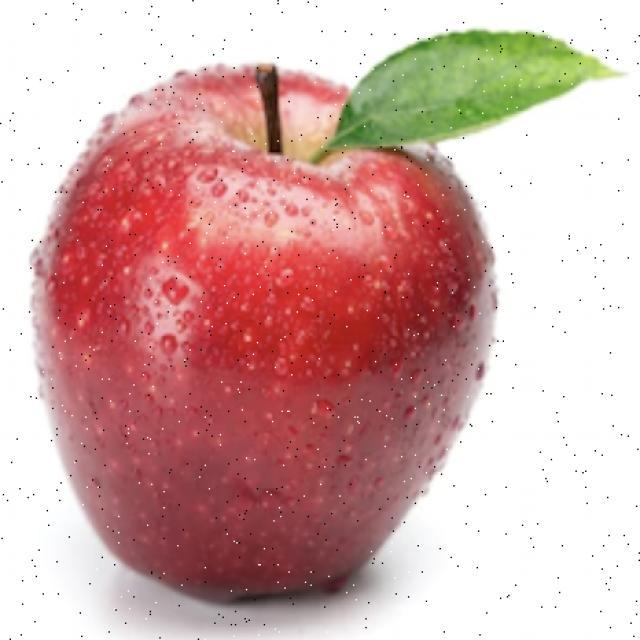Fresh Apple: (37, 73, 493, 600)
